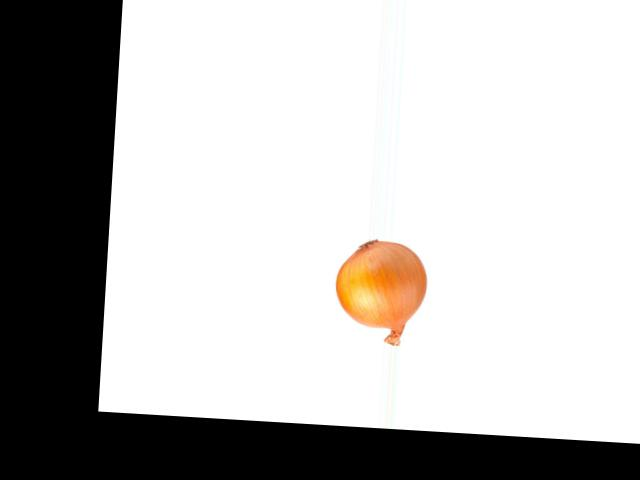onion: (332, 239, 431, 335)
